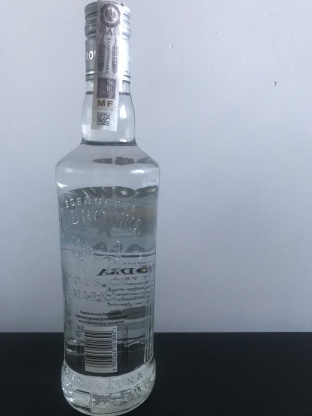nakretka: (81, 0, 133, 86)
